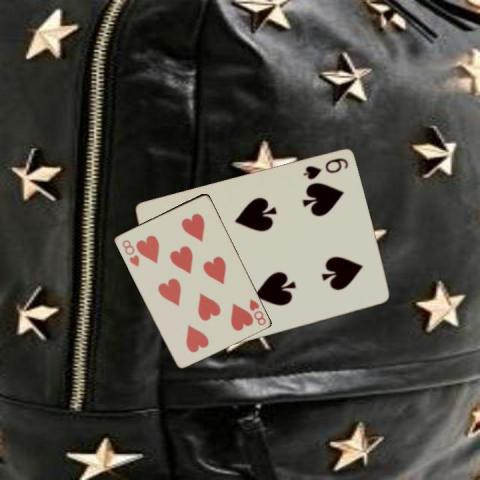6s: (300, 155, 349, 182)
8h: (118, 237, 140, 268), (246, 295, 267, 327)
